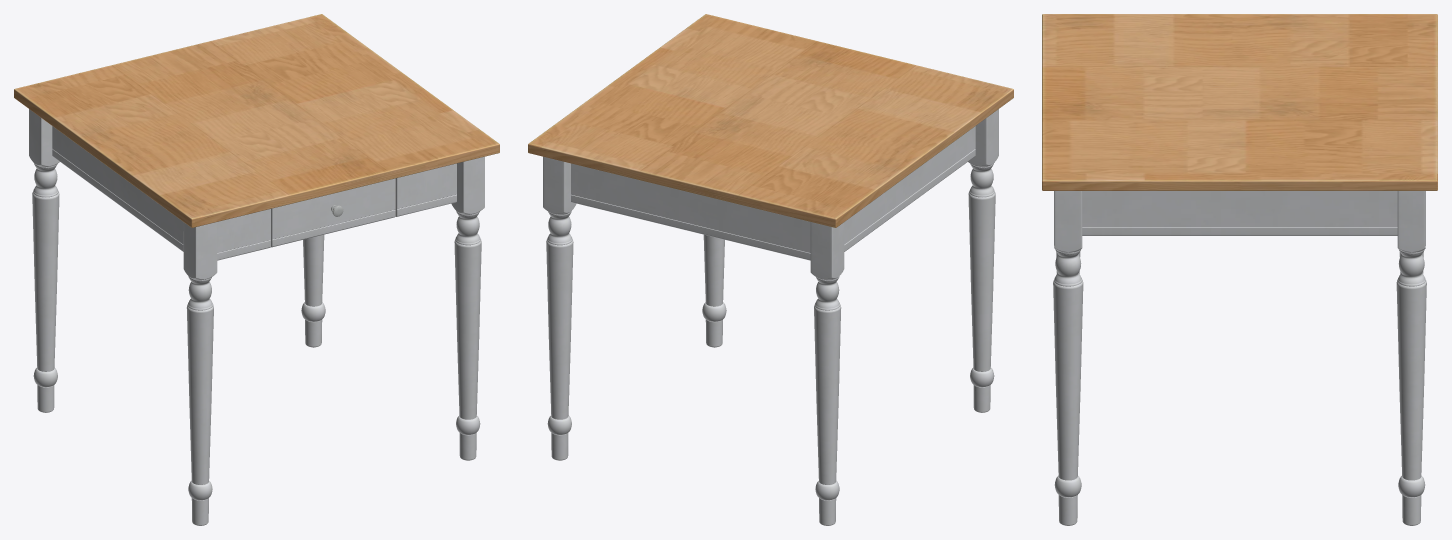
The model's file is abo-B07MF1V33V.glb.
The picture shows the model from 3 angles, left to right: view 1: azimuth 30°, elevation 25°; view 2: azimuth 150°, elevation 25°; view 3: azimuth 270°, elevation 25°; orthographic projection. The views are drawn at different scales.
Bounding box in the file's own units: 0.747 × 0.738 × 0.747.
1 material, 1 textured.
